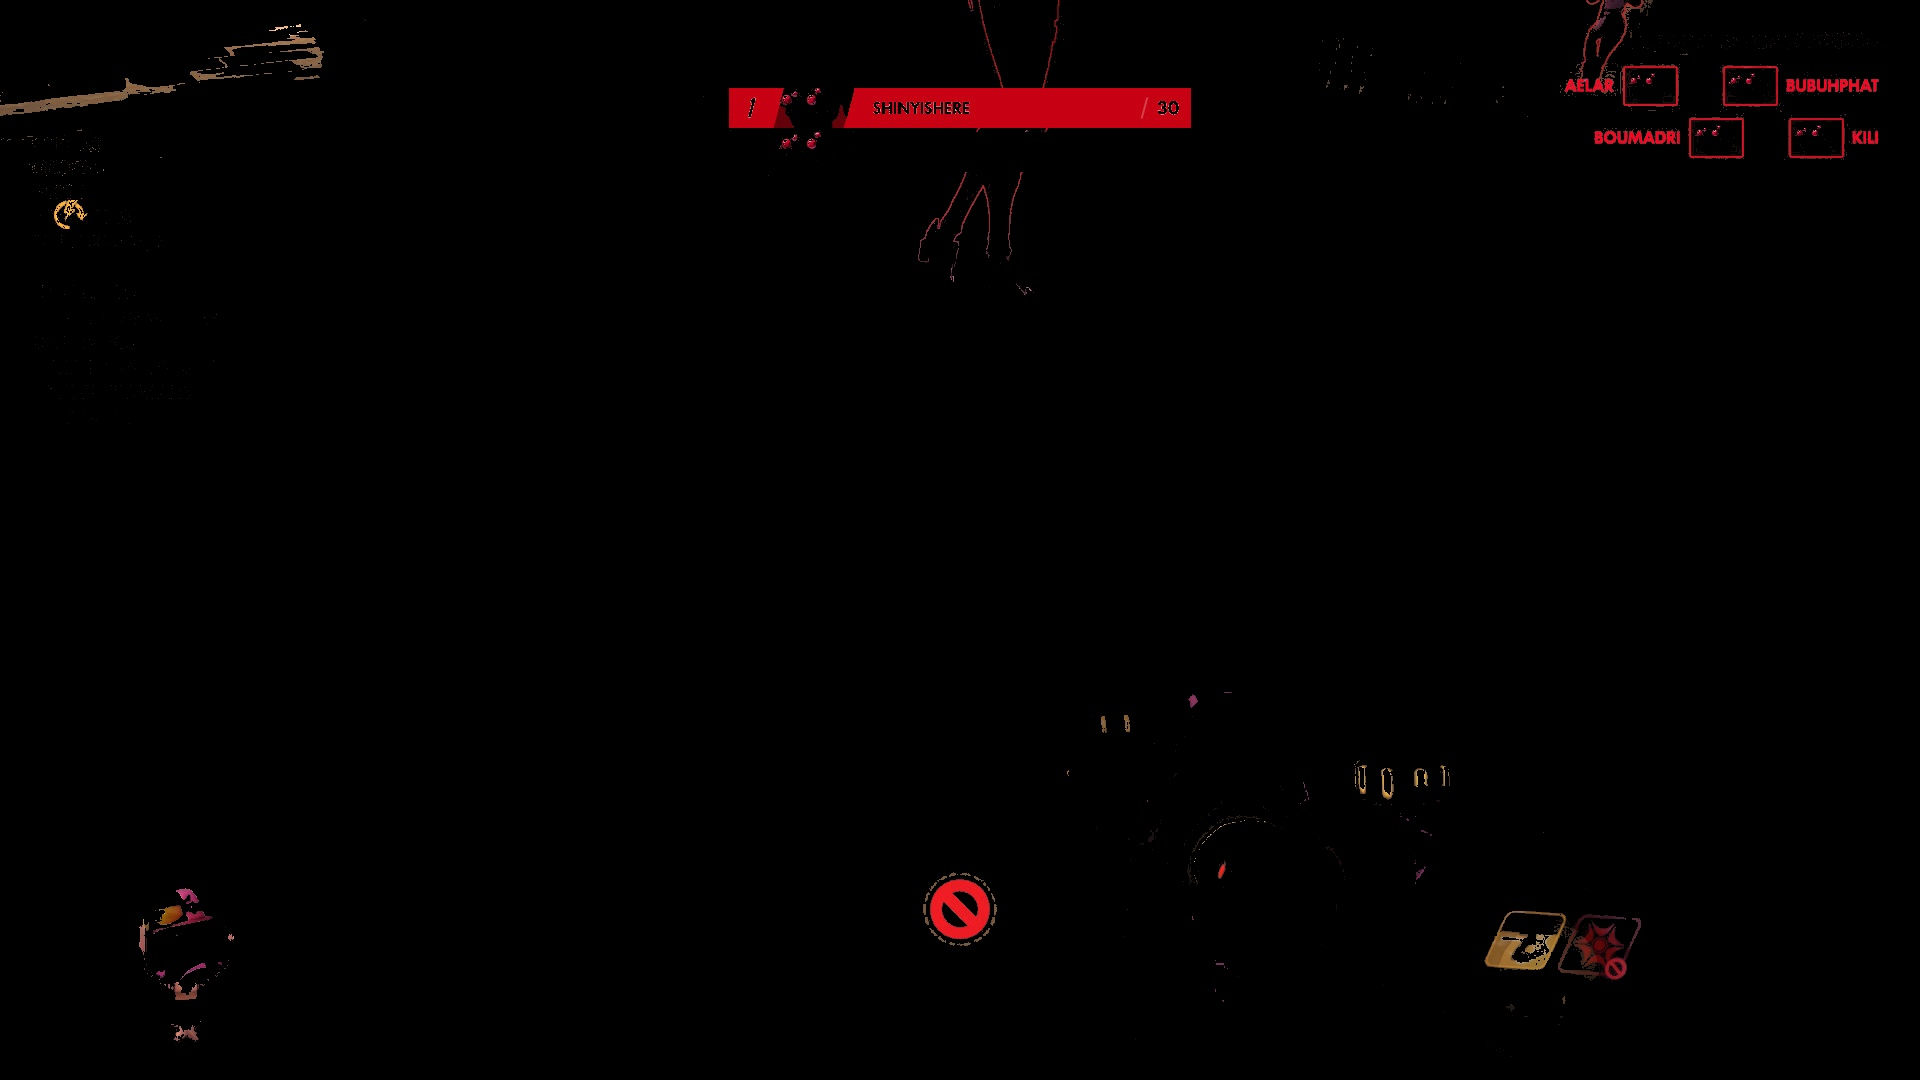widowmaker: (905, 1, 1092, 315)
